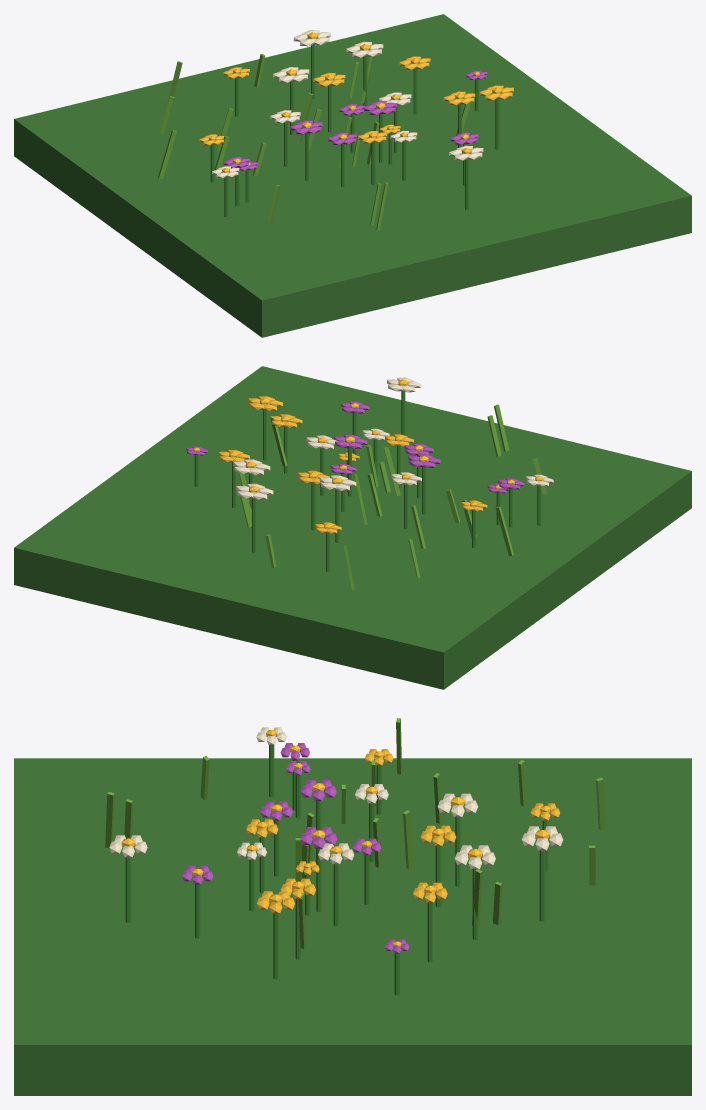
File: wildflowers.glb
The picture shows the model from 3 angles, top to bottom: view 1: azimuth 30°, elevation 25°; view 2: azimuth 150°, elevation 25°; view 3: azimuth 270°, elevation 25°; orthographic projection. The views are drawn at different scales.
Parts seen in each view (by area): view 1: TerrainBase; view 2: TerrainBase; view 3: TerrainBase.
Boxes of the visible parts, left/top/right/bottom form: TerrainBase: left=14, top=14, right=691, bottom=337; TerrainBase: left=14, top=366, right=691, bottom=689; TerrainBase: left=14, top=758, right=691, bottom=1095.
Bounding box in the file's own units: 7 × 1.62 × 7.
